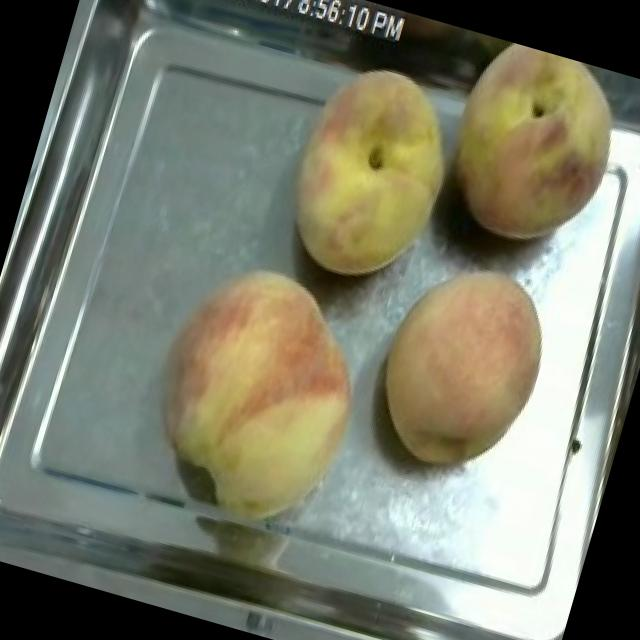Fruit: (120, 239, 397, 546), (260, 40, 484, 305), (350, 238, 574, 497), (418, 31, 640, 275)
